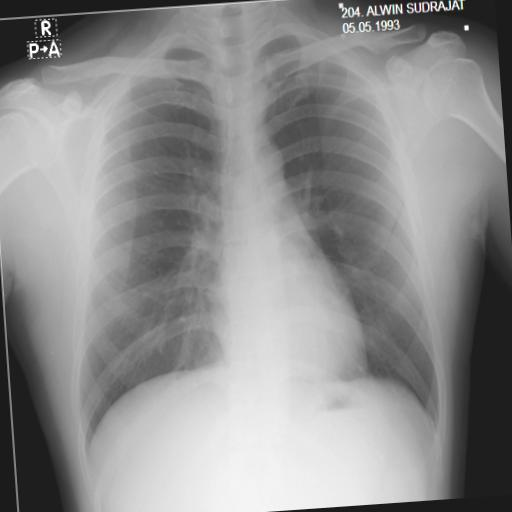normal: (47, 4, 454, 476)
